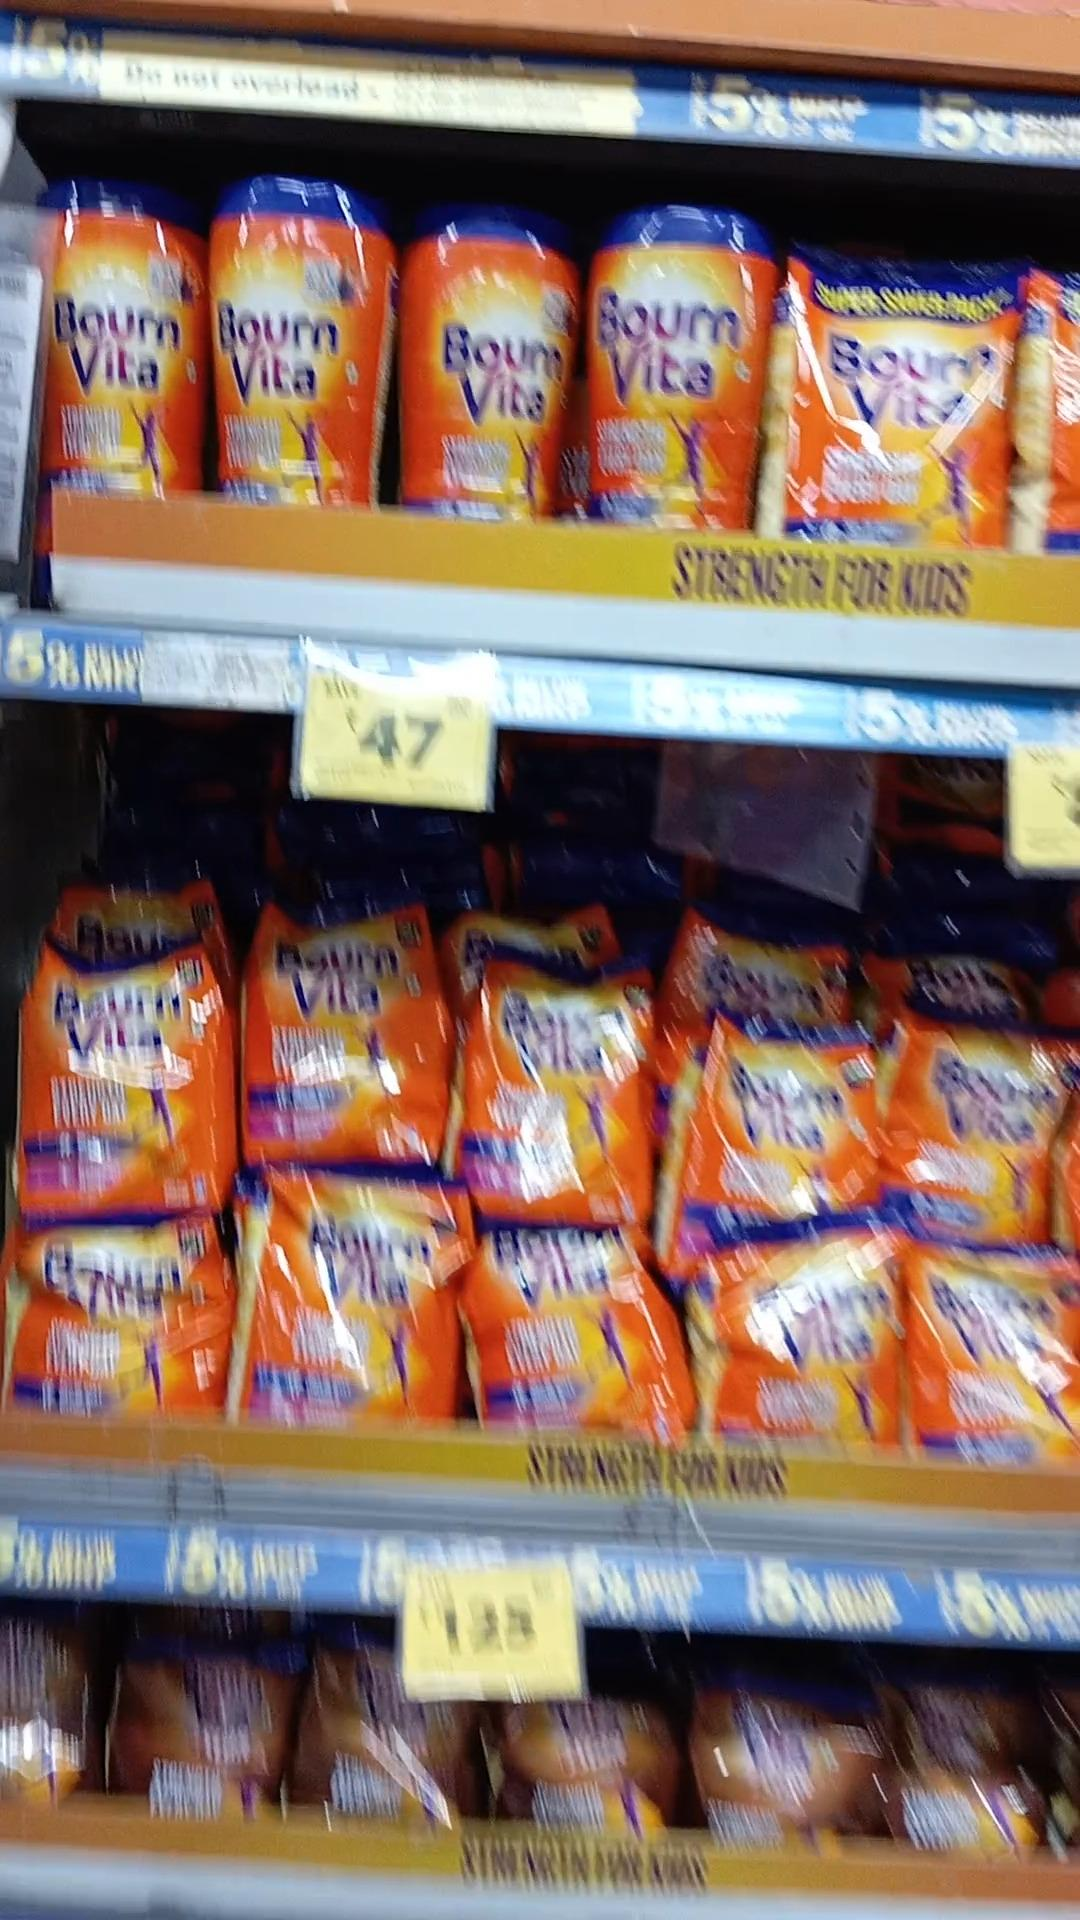BOURN_VITA_1_KG_JAR: (584, 189, 766, 538), (208, 171, 378, 524), (392, 196, 566, 520), (28, 178, 194, 500)
BOURN_VITA_750_G_POUCH: (12, 928, 220, 1218), (252, 1170, 462, 1451), (248, 878, 454, 1154), (476, 953, 655, 1215), (12, 1224, 216, 1433), (906, 1250, 1073, 1458), (895, 1007, 1060, 1218), (476, 1230, 644, 1433), (727, 1242, 887, 1448), (717, 1026, 884, 1216)
BOURN_VITA_FIVE_STAR_MAGIC_500_G_POUCH: (116, 1642, 291, 1811), (696, 1680, 868, 1847), (305, 1642, 452, 1826), (886, 1676, 1030, 1855)
